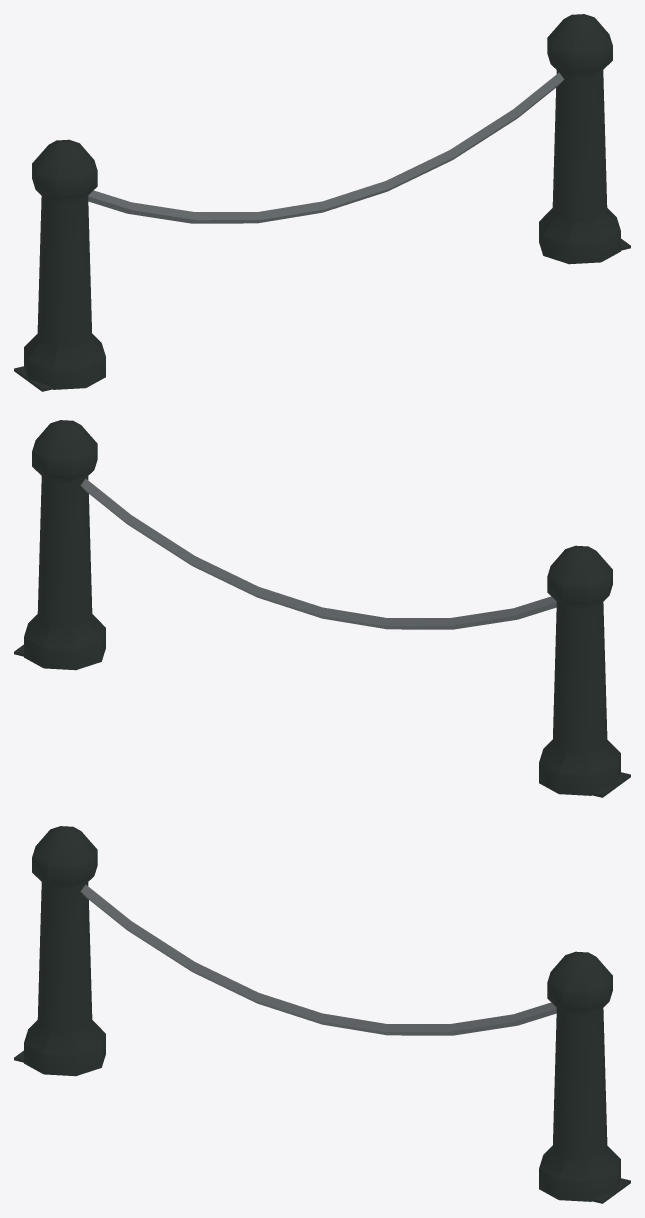
The model's file is sf_bollard_chain.glb.
3 renders of one model, top to bottom at view 1: azimuth 30°, elevation 25°; view 2: azimuth 150°, elevation 25°; view 3: azimuth 330°, elevation 25°, orthographic.
Parts seen in each view (by area): view 1: sf_bollard_chain; view 2: sf_bollard_chain; view 3: sf_bollard_chain.
Boxes of the visible parts, x1=… form: sf_bollard_chain: x1=14, y1=14, x2=630, y2=391; sf_bollard_chain: x1=14, y1=420, x2=630, y2=797; sf_bollard_chain: x1=14, y1=826, x2=630, y2=1203.
Size of the model in its own units: 2.4 by 0.9001 by 0.3.
1 material, 1 textured.
